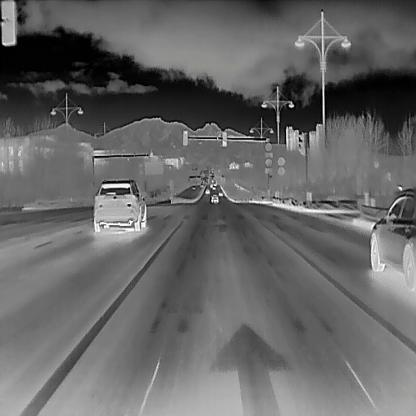car: (368, 188, 415, 291), (93, 178, 146, 232), (211, 194, 219, 203), (217, 191, 223, 197), (191, 185, 196, 190), (204, 189, 209, 194), (211, 184, 216, 189), (199, 183, 203, 187)
